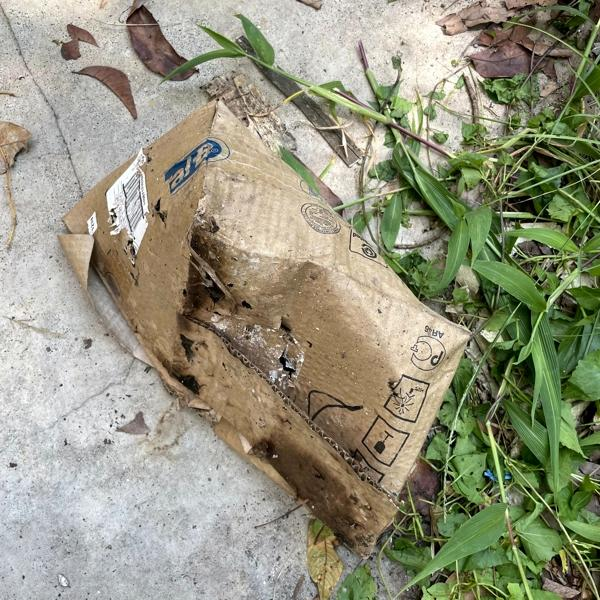Organik: (47, 98, 502, 557)
